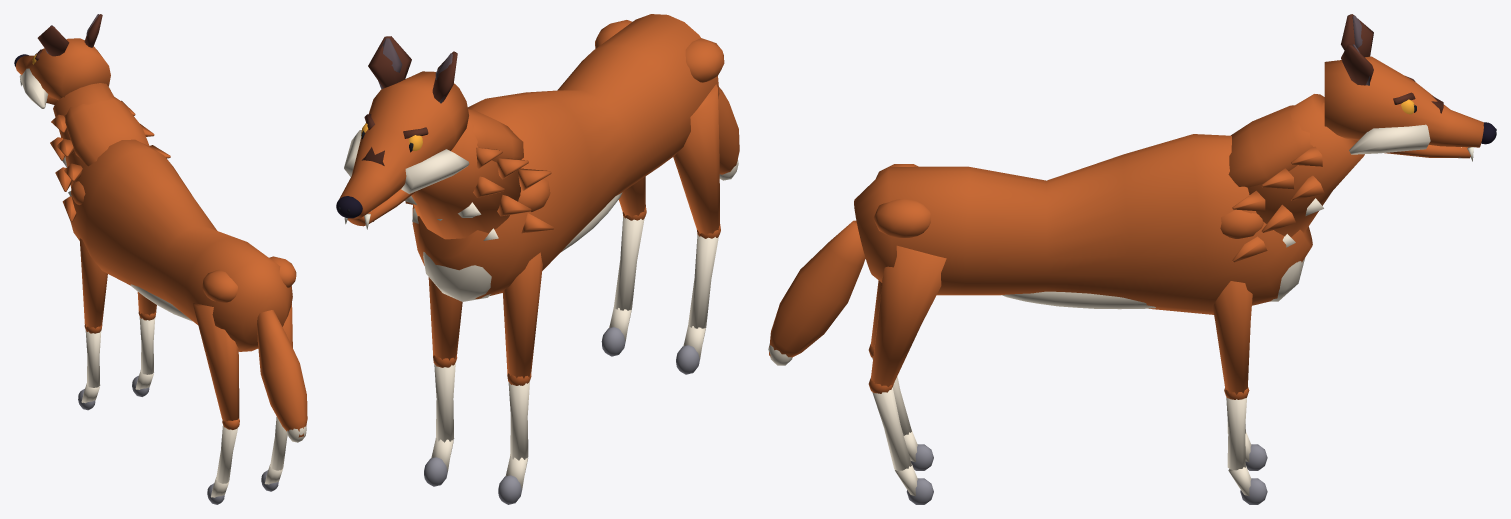
Rendered from beast_fox.glb.
3 renders of one model, left to right at view 1: azimuth 30°, elevation 25°; view 2: azimuth 150°, elevation 25°; view 3: azimuth 270°, elevation 25°, orthographic. The views are drawn at different scales.
Parts seen in each view (by area): view 1: body, neck, tail, head, leg_br, leg_fr, shin_br, shin_fr, shin_fl, shin_bl, ear_r, leg_fl (+1 smaller); view 2: body, head, neck, leg_br, leg_fr, shin_br, shin_bl, shin_fr, shin_fl, leg_fl, tail, ear_l (+3 smaller); view 3: body, neck, head, tail, leg_bl, leg_fl, shin_bl, shin_fl, shin_br, ear_r, ear_l.
Boxes of the visible parts, x1=… form: body: x1=70, y1=139, x2=296, y2=351; neck: x1=50, y1=83, x2=170, y2=221; tail: x1=257, y1=310, x2=307, y2=442; head: x1=14, y1=38, x2=110, y2=108; leg_br: x1=193, y1=303, x2=239, y2=429; leg_fr: x1=79, y1=238, x2=107, y2=333; shin_br: x1=207, y1=425, x2=238, y2=504; shin_fr: x1=78, y1=330, x2=101, y2=410; shin_fl: x1=132, y1=317, x2=155, y2=396; shin_bl: x1=261, y1=416, x2=287, y2=491; ear_r: x1=37, y1=25, x2=69, y2=56; leg_fl: x1=137, y1=292, x2=156, y2=320; body: x1=412, y1=14, x2=724, y2=298; head: x1=336, y1=71, x2=469, y2=229; neck: x1=404, y1=109, x2=553, y2=301; leg_br: x1=673, y1=84, x2=720, y2=238; leg_fr: x1=502, y1=252, x2=542, y2=385; shin_br: x1=676, y1=234, x2=718, y2=374; shin_bl: x1=601, y1=216, x2=644, y2=356; shin_fr: x1=498, y1=381, x2=529, y2=504; shin_fl: x1=424, y1=363, x2=455, y2=486; leg_fl: x1=428, y1=277, x2=462, y2=367; tail: x1=718, y1=87, x2=739, y2=180; ear_l: x1=368, y1=36, x2=411, y2=89; body: x1=854, y1=134, x2=1312, y2=314; neck: x1=1228, y1=94, x2=1364, y2=301; head: x1=1324, y1=56, x2=1496, y2=161; tail: x1=768, y1=220, x2=865, y2=365; leg_bl: x1=868, y1=245, x2=946, y2=393; leg_fl: x1=1213, y1=281, x2=1252, y2=399; shin_bl: x1=872, y1=387, x2=933, y2=504; shin_fl: x1=1226, y1=397, x2=1267, y2=504; shin_br: x1=872, y1=358, x2=933, y2=470; ear_r: x1=1341, y1=14, x2=1373, y2=57; ear_l: x1=1341, y1=44, x2=1373, y2=85.
Size of the model in its own units: 0.4164 by 1.38 by 1.99.
